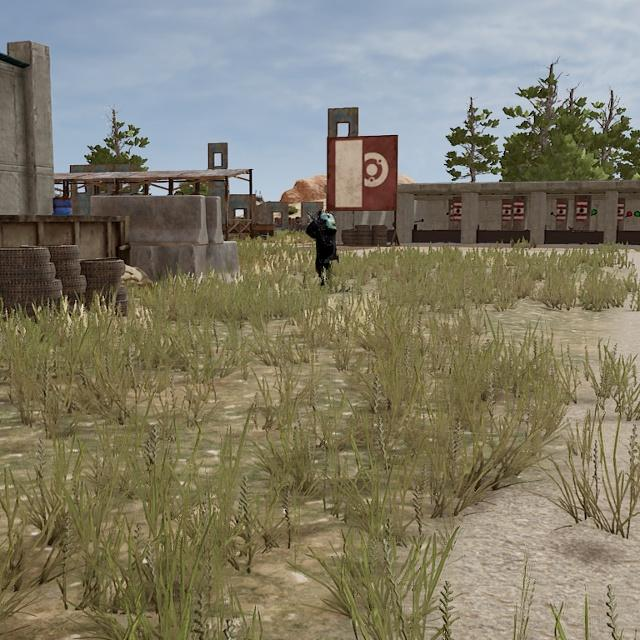head: (315, 208, 328, 221)
people: (304, 207, 339, 287)
